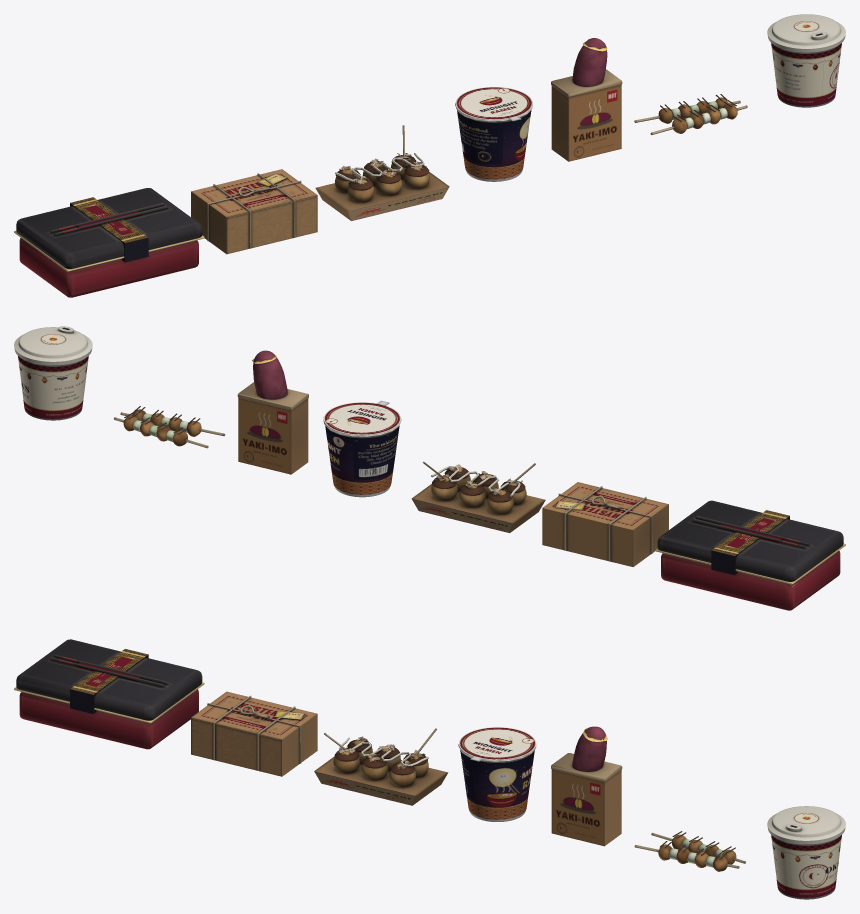
Rendered from ConcessionHotFood.fbx.
The picture shows the model from 3 angles, top to bottom: view 1: azimuth 30°, elevation 25°; view 2: azimuth 150°, elevation 25°; view 3: azimuth 330°, elevation 25°; orthographic projection.
Visible parts, largest first — view 1: ConcessionHotFood_Bento, ConcessionHotFood_MeatLoaf, ConcessionHotFood_RoastSweetPotato, ConcessionHotFood_CupRamen, ConcessionHotFood_PumpkinSoup, ConcessionHotFood_TakoyakiBoat, ConcessionHotFood_YakitoriSkewers; view 2: ConcessionHotFood_Bento, ConcessionHotFood_MeatLoaf, ConcessionHotFood_RoastSweetPotato, ConcessionHotFood_CupRamen, ConcessionHotFood_PumpkinSoup, ConcessionHotFood_TakoyakiBoat, ConcessionHotFood_YakitoriSkewers; view 3: ConcessionHotFood_Bento, ConcessionHotFood_MeatLoaf, ConcessionHotFood_RoastSweetPotato, ConcessionHotFood_CupRamen, ConcessionHotFood_PumpkinSoup, ConcessionHotFood_TakoyakiBoat, ConcessionHotFood_YakitoriSkewers.
Part boxes in pixels (<box>): ConcessionHotFood_Bento: <box>14,188,204,297</box>; ConcessionHotFood_MeatLoaf: <box>191,169,317,254</box>; ConcessionHotFood_RoastSweetPotato: <box>551,38,622,161</box>; ConcessionHotFood_CupRamen: <box>455,87,532,181</box>; ConcessionHotFood_PumpkinSoup: <box>767,14,845,107</box>; ConcessionHotFood_TakoyakiBoat: <box>315,125,449,220</box>; ConcessionHotFood_YakitoriSkewers: <box>634,94,747,134</box>; ConcessionHotFood_Bento: <box>655,500,845,610</box>; ConcessionHotFood_MeatLoaf: <box>542,482,668,566</box>; ConcessionHotFood_RoastSweetPotato: <box>237,350,308,474</box>; ConcessionHotFood_CupRamen: <box>323,400,401,497</box>; ConcessionHotFood_PumpkinSoup: <box>14,326,92,420</box>; ConcessionHotFood_TakoyakiBoat: <box>411,461,545,532</box>; ConcessionHotFood_YakitoriSkewers: <box>114,406,225,448</box>; ConcessionHotFood_Bento: <box>14,639,204,749</box>; ConcessionHotFood_MeatLoaf: <box>191,691,317,776</box>; ConcessionHotFood_RoastSweetPotato: <box>551,726,622,846</box>; ConcessionHotFood_CupRamen: <box>458,727,536,821</box>; ConcessionHotFood_PumpkinSoup: <box>767,806,845,899</box>; ConcessionHotFood_TakoyakiBoat: <box>314,728,448,805</box>; ConcessionHotFood_YakitoriSkewers: <box>634,831,745,871</box>.
Size of the model in its own units: 544 by 70.35 by 65.
